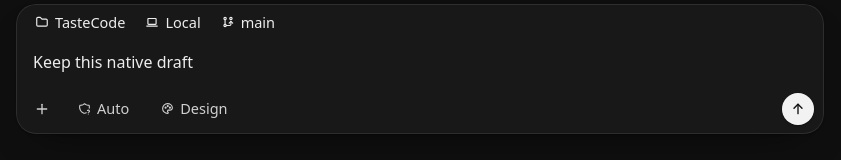
it: Composer draft state › keeps the native draft through unrelated rerenders and submits the latest text
Earlier steps of the test are not shown.
Expected: the text box with placeholder "Do anything" holds "Keep this native draft", [17,40,823,88]
Click the button named "Send".
click(798, 109)  # box [782,93,814,125]
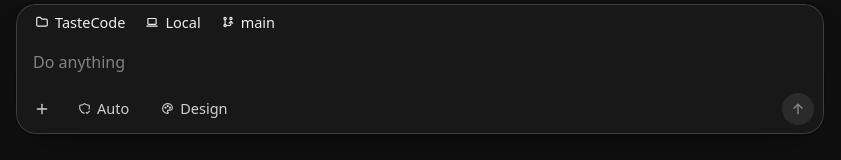
Now the text box with placeholder "Do anything" is empty, box [17,40,823,88]
